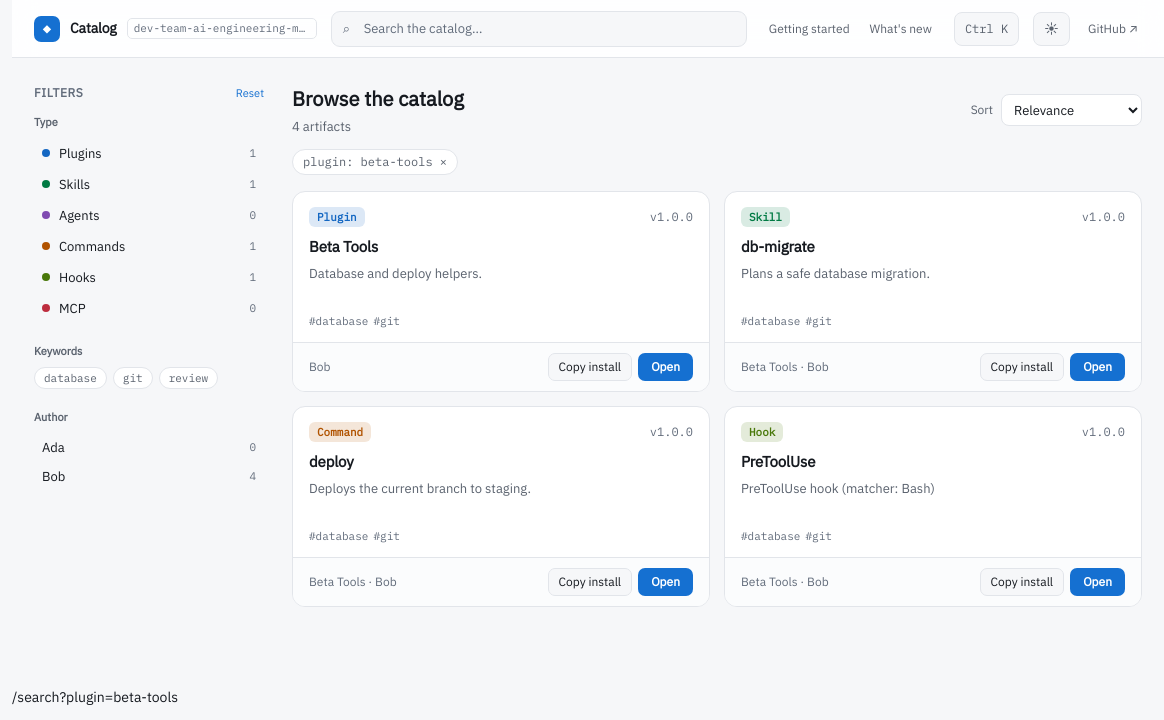
search page URL state › plugin= and category= show as removable chips
This screenshot has width=1164, height=720.
What coordinates should you click on to do the following:
click the button with aria-label "Remove filter plugin: beta-tools"
I would click on:
 (375, 162)
Its box is x1=292 y1=148 x2=458 y2=174.
(page scrolled)
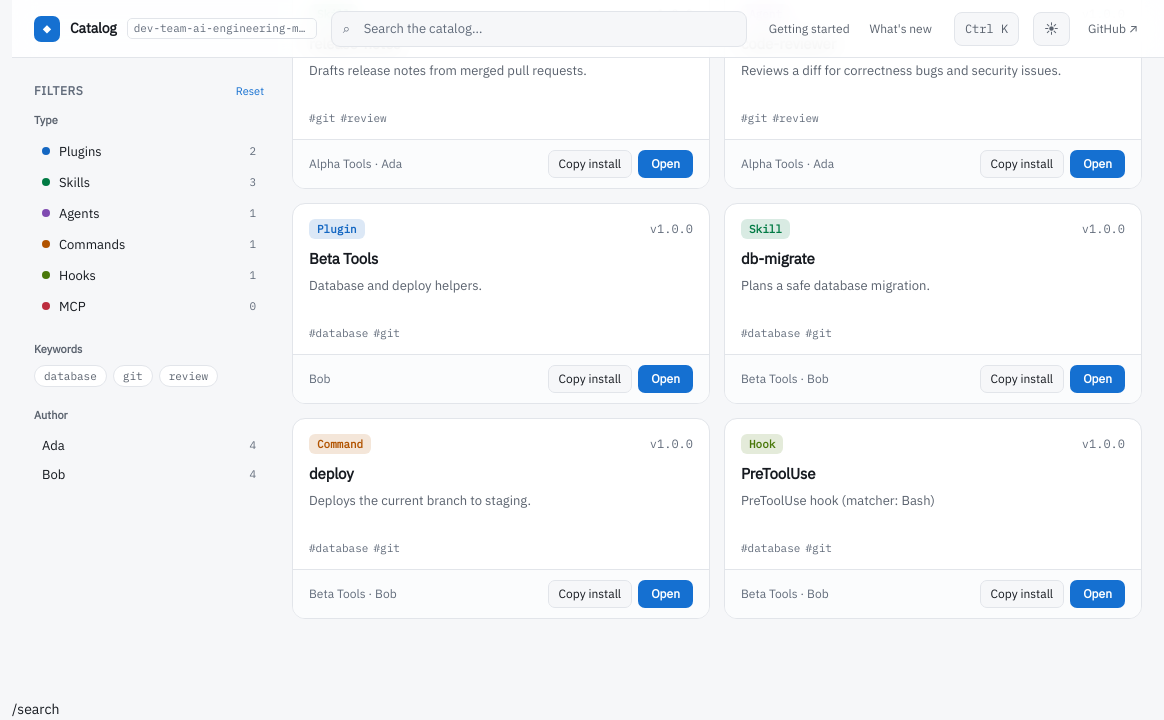
Expected: the text with test id "location" reads "/search", x1=12 y1=700 x2=59 y2=718
